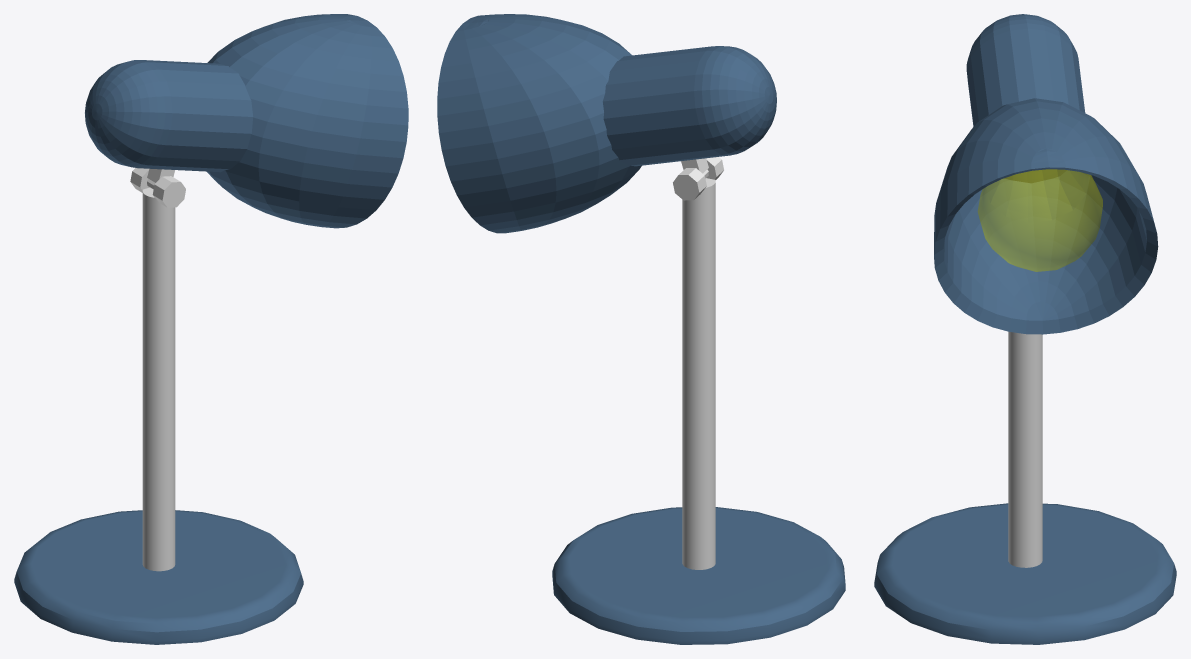
Rendered from lamp.fbx.
The picture shows the model from 3 angles, left to right: view 1: azimuth 30°, elevation 25°; view 2: azimuth 150°, elevation 25°; view 3: azimuth 270°, elevation 25°; orthographic projection. The views are drawn at different scales.
Visible parts, largest first — view 1: MDL_LampShade1, MDL_LampHand1, MDL_Adjust_Screw; view 2: MDL_LampShade1, MDL_LampHand1, MDL_Adjust_Screw; view 3: MDL_LampShade1, MDL_LampHand1, MDL_Lightbulb.
Part boxes in pixels (left/top/right/bottom): MDL_LampShade1: left=85, top=14, right=408, bottom=228; MDL_LampHand1: left=14, top=187, right=303, bottom=644; MDL_Adjust_Screw: left=130, top=168, right=185, bottom=207; MDL_LampShade1: left=437, top=14, right=776, bottom=233; MDL_LampHand1: left=552, top=178, right=845, bottom=644; MDL_Adjust_Screw: left=673, top=157, right=723, bottom=200; MDL_LampShade1: left=934, top=14, right=1158, bottom=334; MDL_LampHand1: left=874, top=331, right=1176, bottom=644; MDL_Lightbulb: left=978, top=169, right=1102, bottom=271.
Size of the model in its own units: 7.37 by 10.68 by 5.31.
